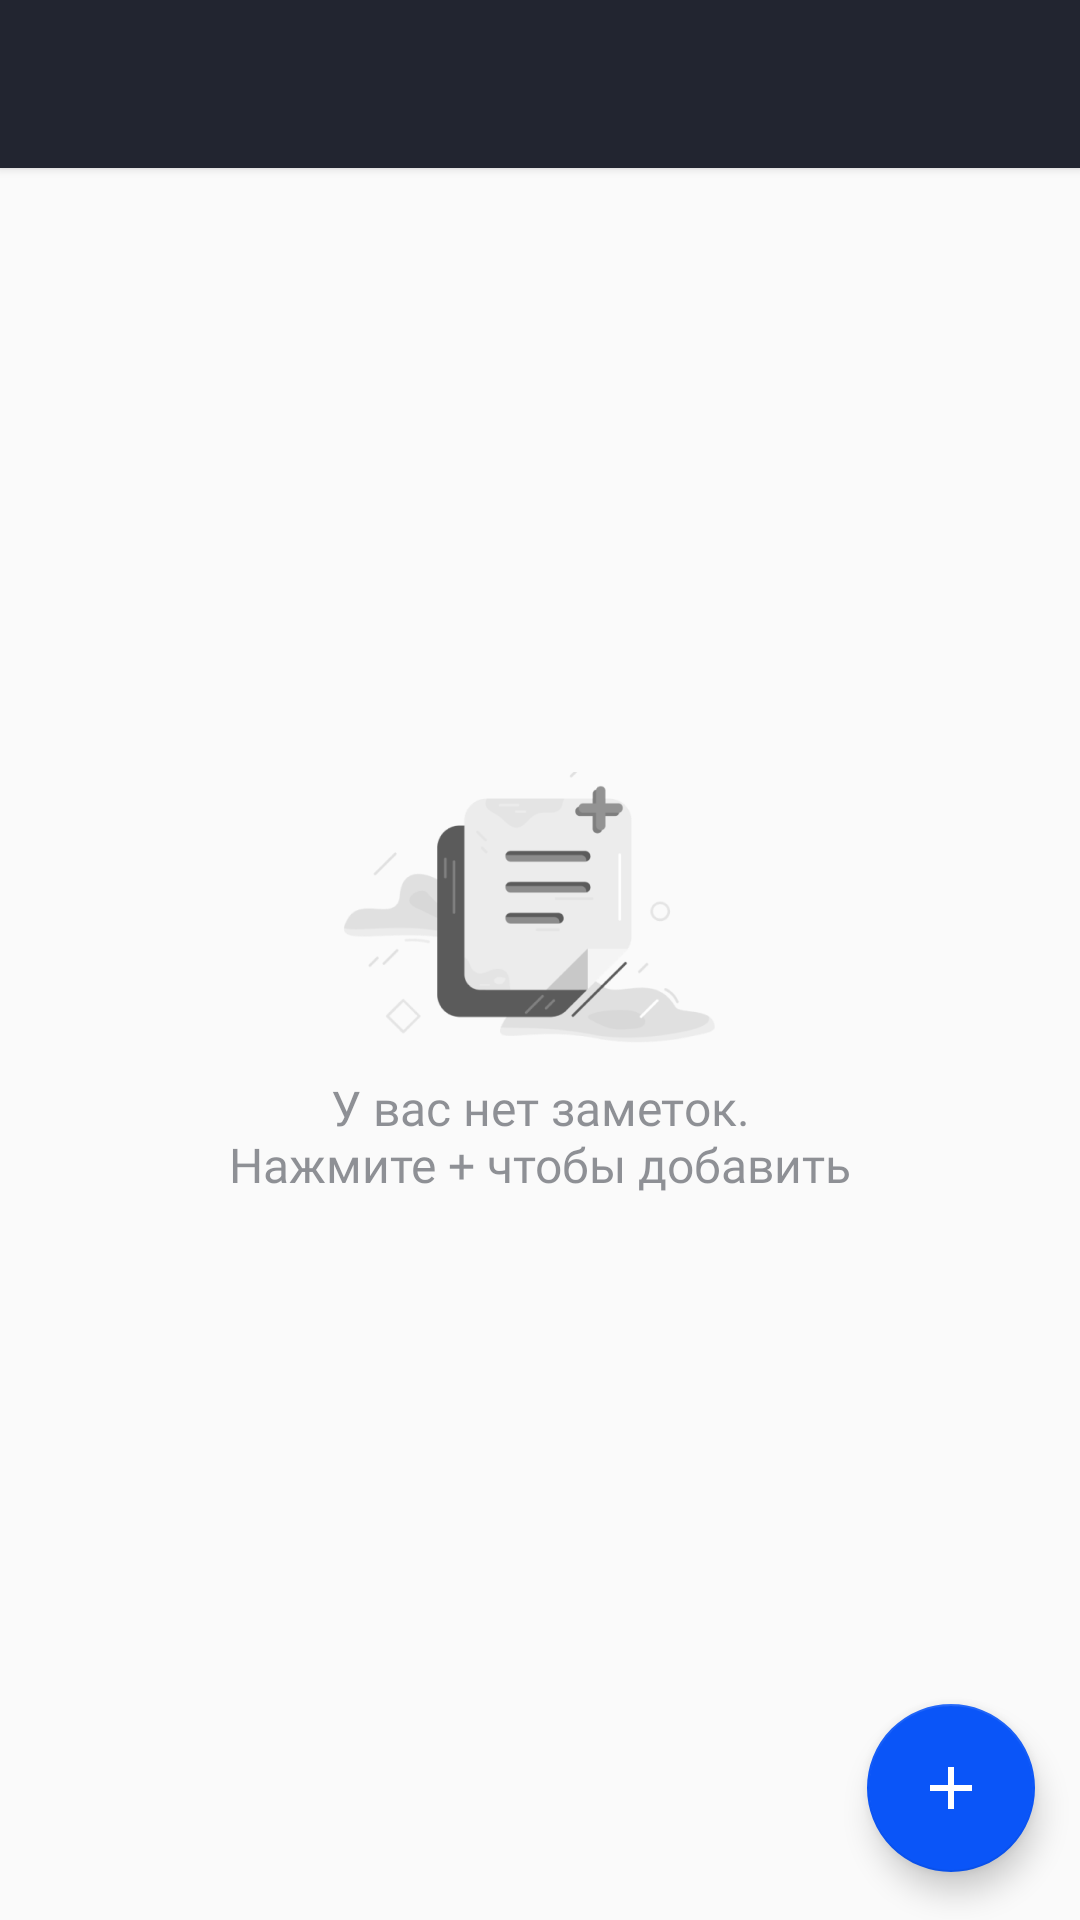

Where icons sit on this 1080px x 1920px app screen, as (x1=x1, y1=y1, x2=x2, y2=y2):
add new note: (x1=867, y1=1704, x2=1035, y2=1872)
